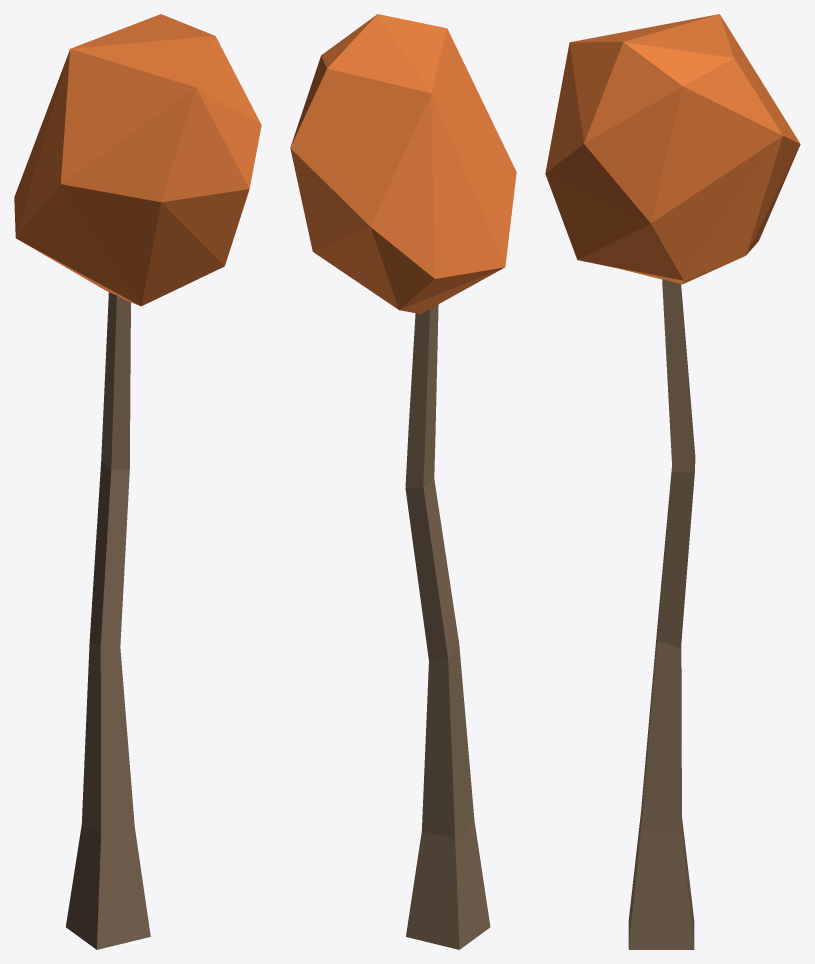
File: Tree_3.fbx
3 views of the same model, side by side, from view 1: azimuth 30°, elevation 25°; view 2: azimuth 150°, elevation 25°; view 3: azimuth 270°, elevation 25° (orthographic). The views are drawn at different scales.
Parts seen in each view (by area): view 1: M_Tree 3; view 2: M_Tree 3; view 3: M_Tree 3.
Part boxes in pixels (x1,y1,x2,y2): M_Tree 3: [14, 14, 261, 949]; M_Tree 3: [290, 14, 516, 949]; M_Tree 3: [545, 14, 800, 949].
Bounding box in the file's own units: 53.88 × 216 × 53.28.
Materials: 1 (1 with a texture image).
